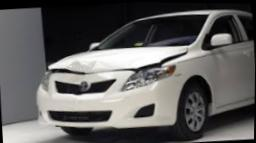Bonnet: (48, 44, 189, 73)
